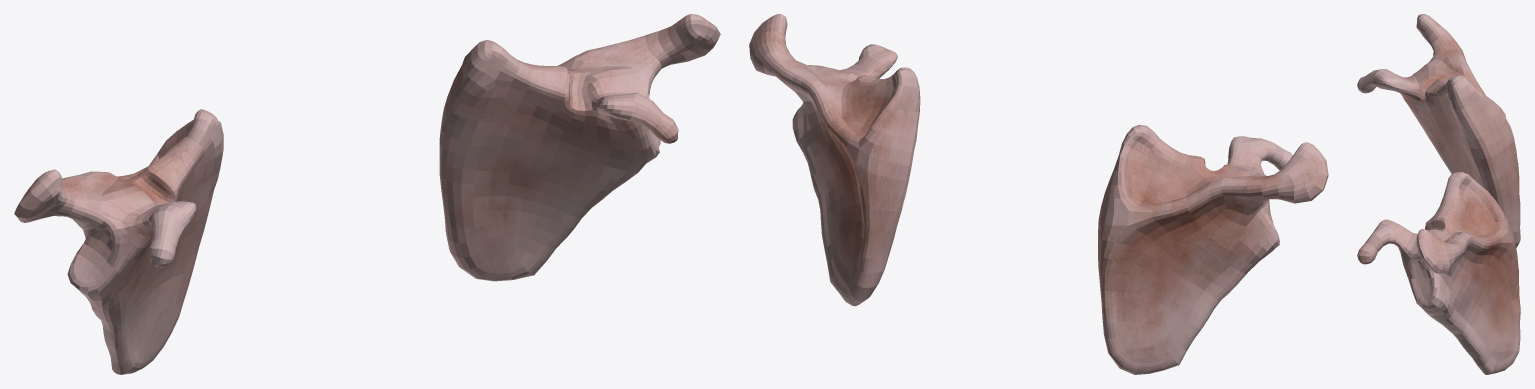
Rendered from scapula.obj.
3 renders of one model, left to right at view 1: azimuth 30°, elevation 25°; view 2: azimuth 150°, elevation 25°; view 3: azimuth 270°, elevation 25°, orthographic. The views are drawn at different scales.
Visible parts, largest first — view 1: scapula; view 2: scapula; view 3: scapula.
Part boxes in pixels (left/top/right/bottom): scapula: left=14, top=14, right=720, bottom=374; scapula: left=749, top=14, right=1328, bottom=374; scapula: left=1357, top=14, right=1520, bottom=374.
Bounding box in the file's own units: 2.76 × 1.03 × 0.8111.
